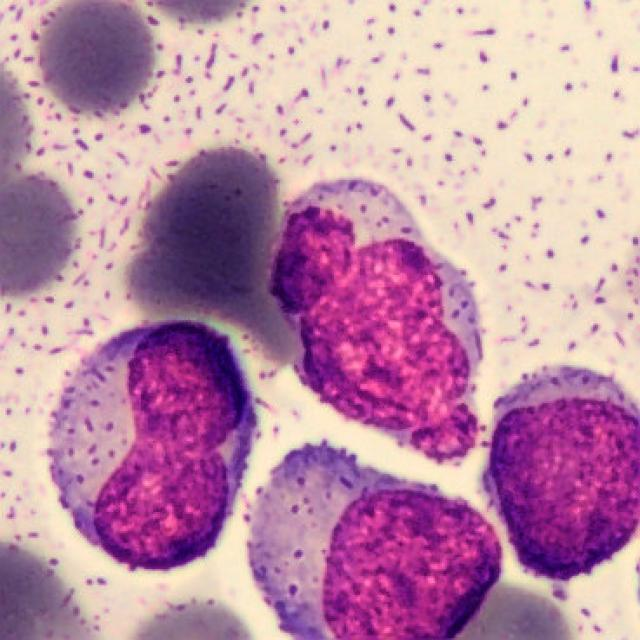Mieloblasto: (270, 180, 483, 464), (49, 320, 257, 571), (249, 439, 501, 640), (490, 370, 640, 585)
